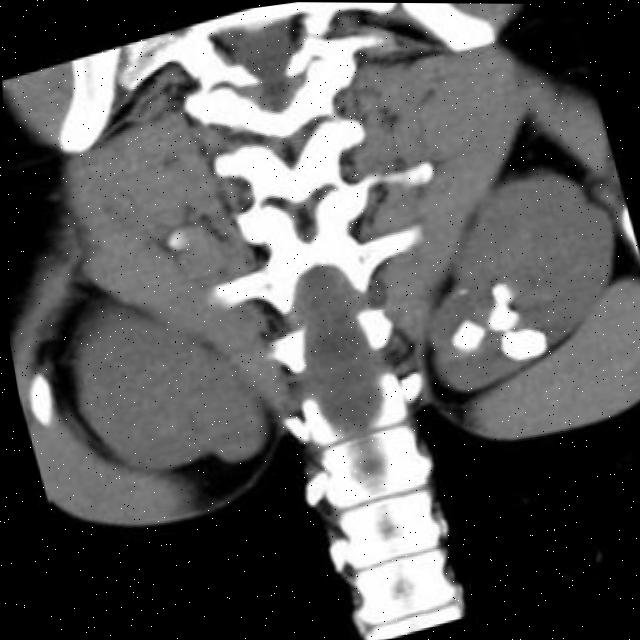Tas_Var: (492, 318, 552, 374), (444, 313, 490, 358), (482, 298, 523, 335), (486, 279, 515, 310), (453, 286, 469, 300)
